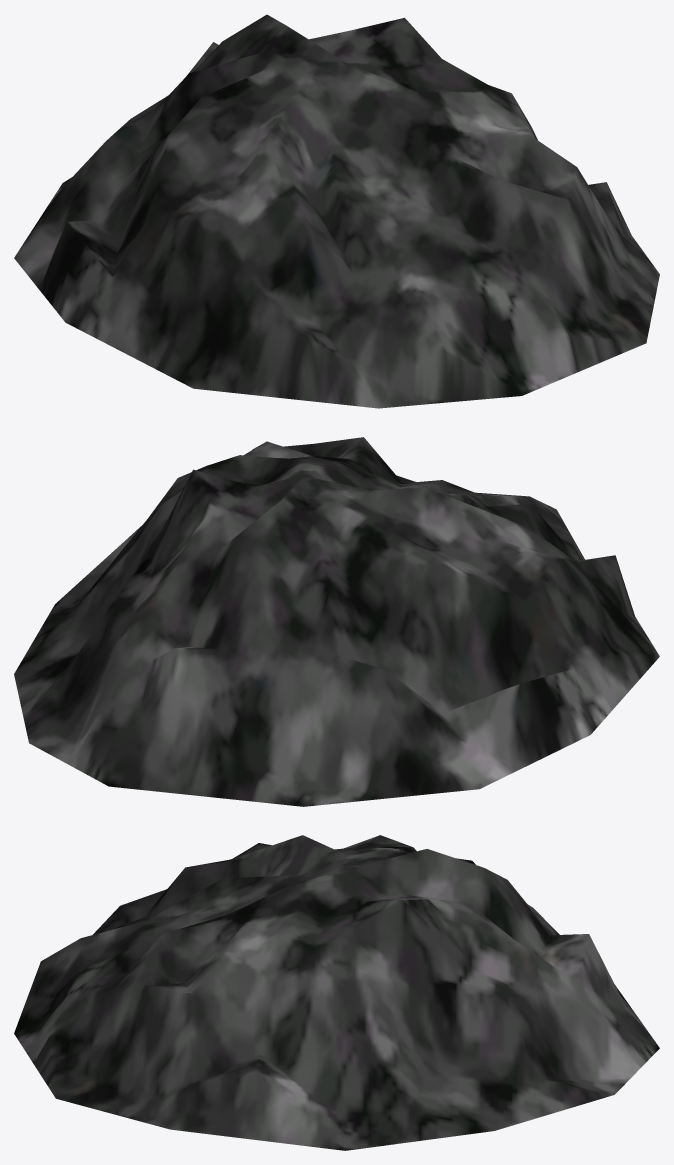
Rendered from INST_SWORDLIGHT_OREB.obj.
3 views of the same model, one above another, from view 1: azimuth 30°, elevation 25°; view 2: azimuth 150°, elevation 25°; view 3: azimuth 270°, elevation 25° (orthographic). The views are drawn at different scales.
Parts seen in each view (by area): view 1: st_OreB_Lod1_01; view 2: st_OreB_Lod1_01; view 3: st_OreB_Lod1_01.
Part boxes in pixels (x1,y1,x2,y2): st_OreB_Lod1_01: (14,14,659,408); st_OreB_Lod1_01: (14,437,659,806); st_OreB_Lod1_01: (14,835,659,1150).
Bounding box in the file's own units: 122 × 44.28 × 142.
